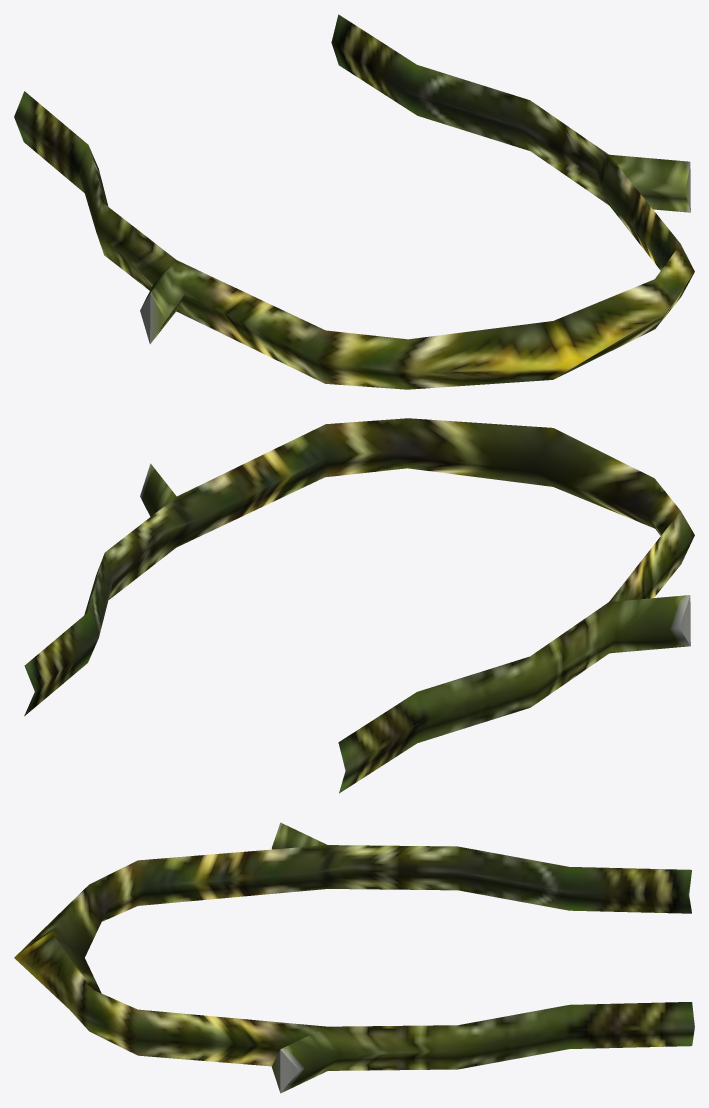
The picture shows the model from 3 angles, top to bottom: view 1: azimuth 30°, elevation 25°; view 2: azimuth 150°, elevation 25°; view 3: azimuth 270°, elevation 25°; orthographic projection. The views are drawn at different scales.
Parts seen in each view (by area): view 1: model_Object20; view 2: model_Object20; view 3: model_Object20.
Part boxes in pixels (<box>): model_Object20: <box>14,14,694,389</box>; model_Object20: <box>24,418,694,793</box>; model_Object20: <box>14,822,694,1093</box>.
Size of the model in its own units: 1.99 by 0.2078 by 2.52.
Materials: 1 (1 with a texture image).
